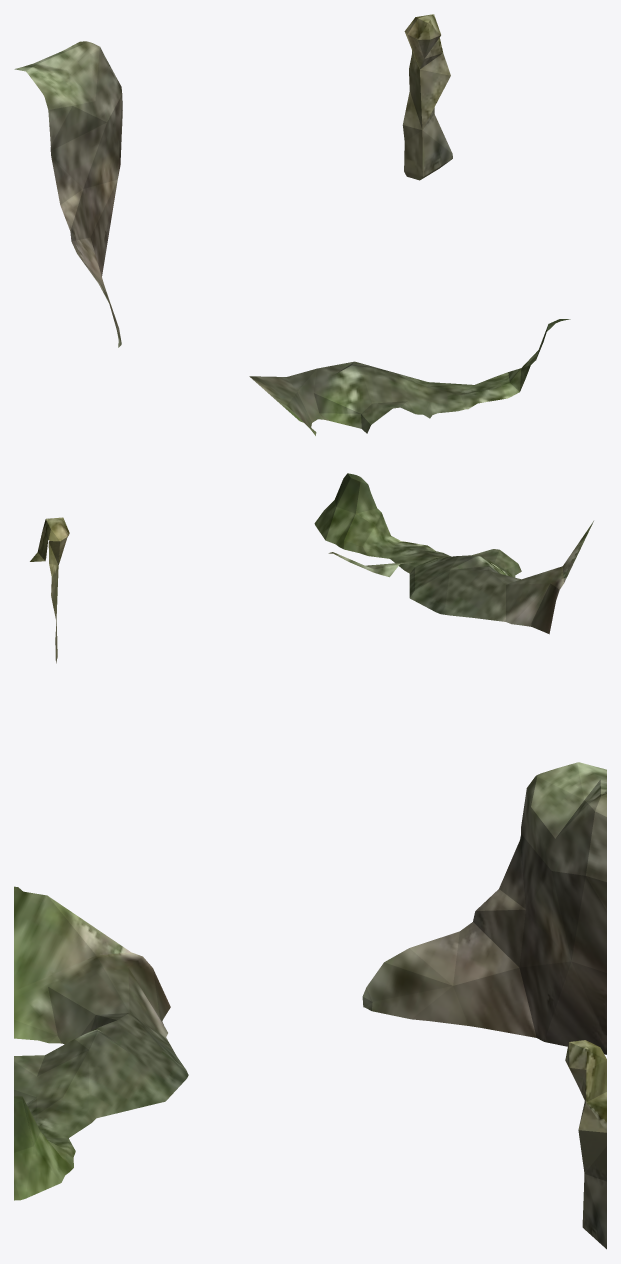
3 renders of one model, top to bottom at view 1: azimuth 30°, elevation 25°; view 2: azimuth 150°, elevation 25°; view 3: azimuth 270°, elevation 25°, orthographic. The views are drawn at different scales.
Bounding box in the file's own units: 2.95 × 1.38 × 2.95.
1 material, 1 textured.
